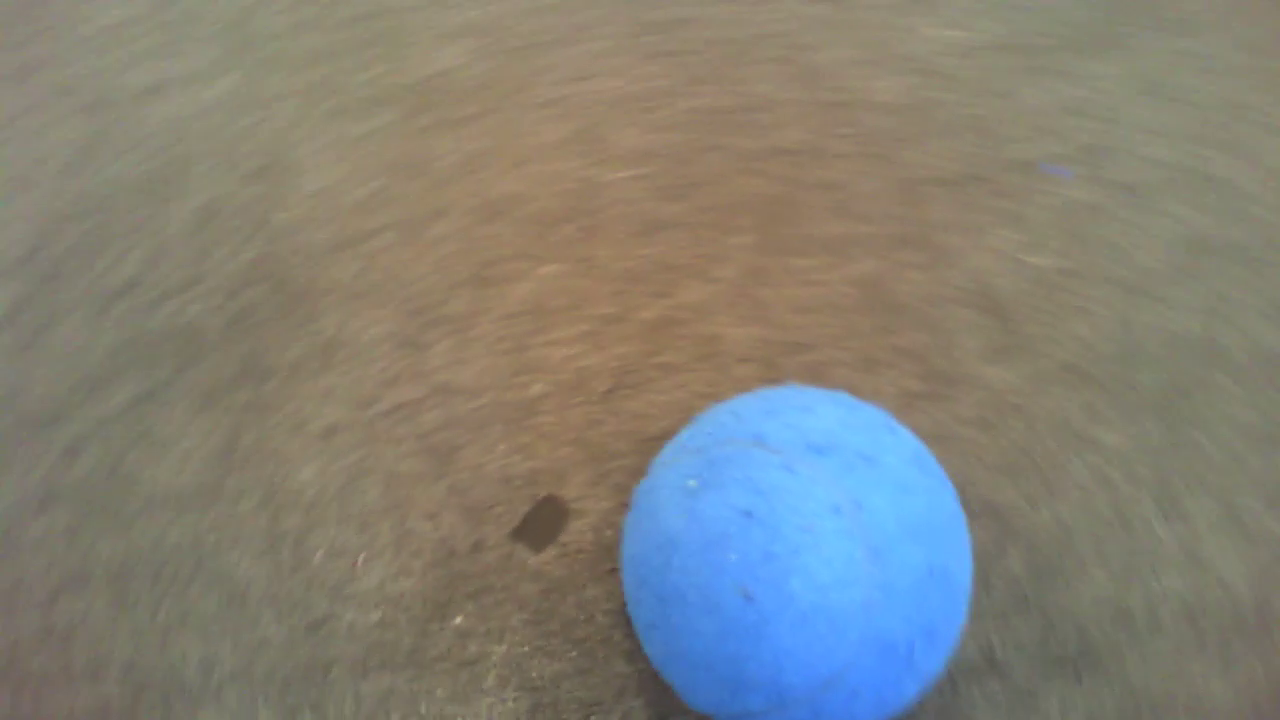blue_cargo: (613, 372, 982, 719)
